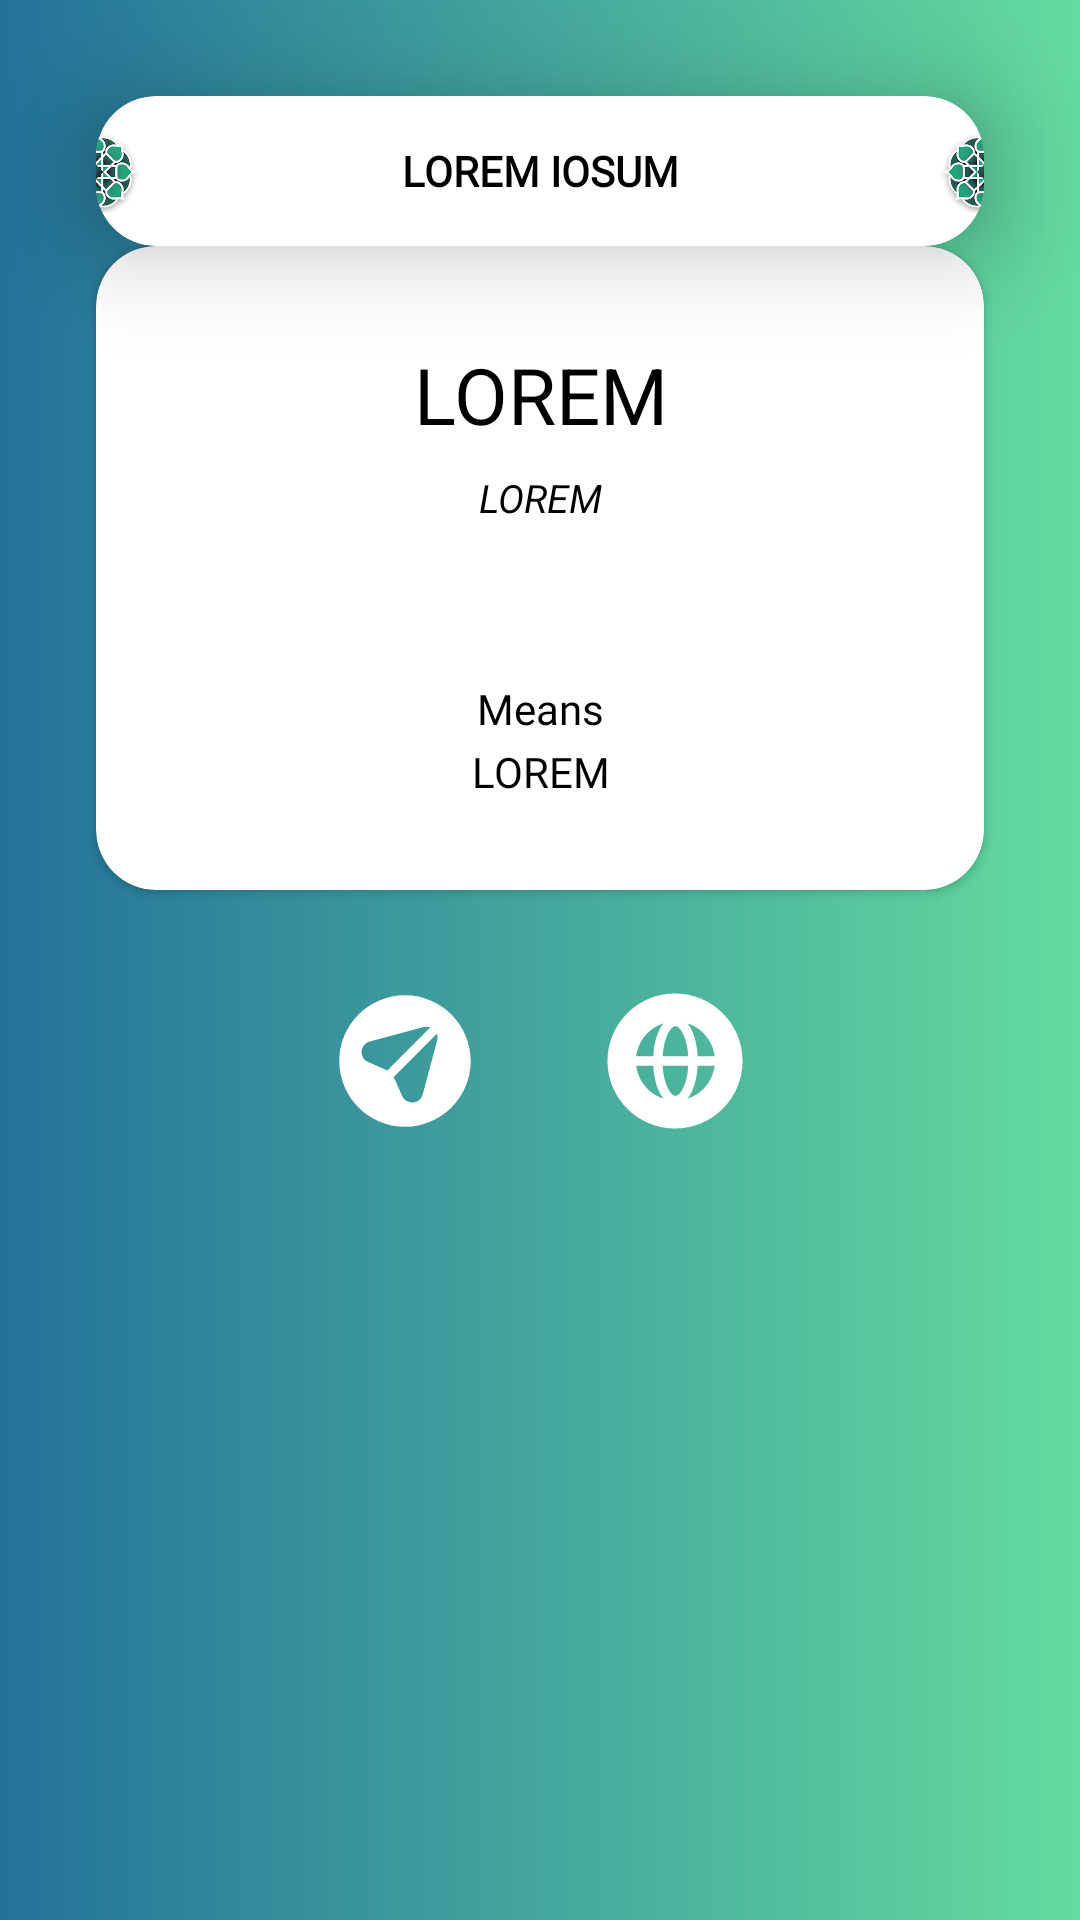

Screen size 1080*1920. Icon name, then its center in pixels as (x=x, y=y):
share: (x=405, y=1061)
web: (x=675, y=1061)
